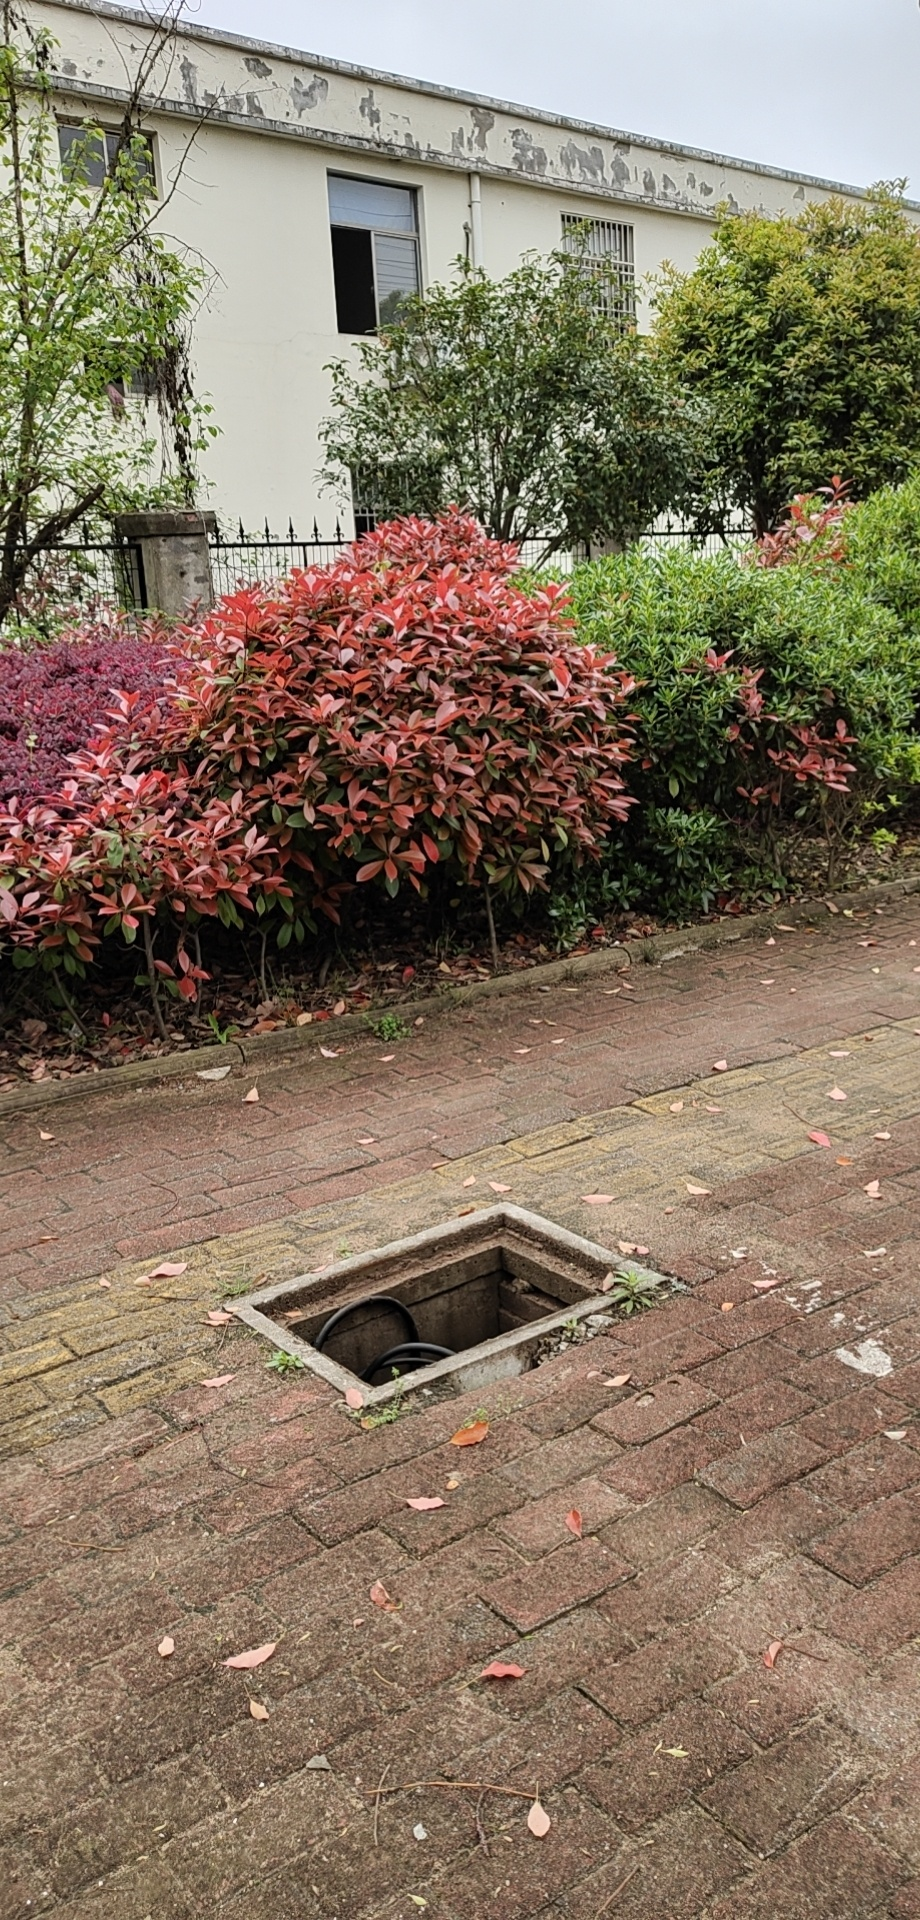well: (225, 1204, 646, 1407)
